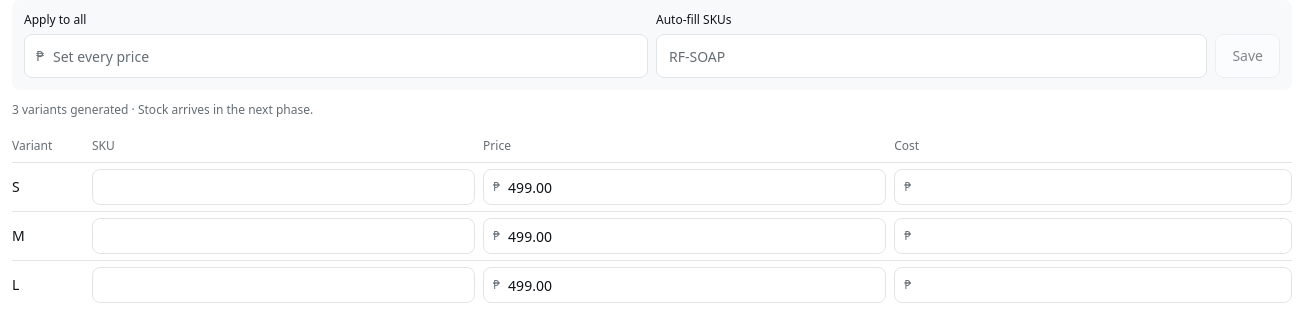
VariantGrid bulk price › propagates a bulk price to every price input
Expected: the field named "Price " holds "499.00", [483, 169, 886, 205]
In the field labelled "Apply to all": (336, 56) [24, 34, 648, 78], type "549"
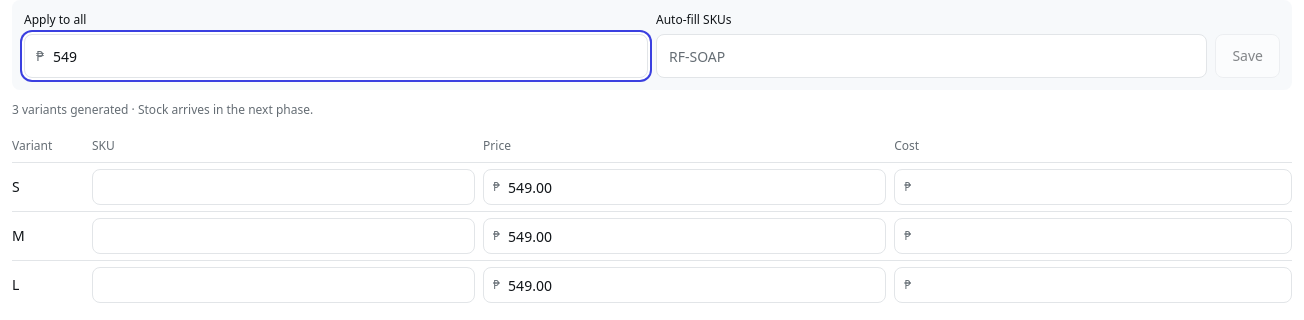
Now the field named "Price " holds "549.00", box [483, 169, 886, 205]
